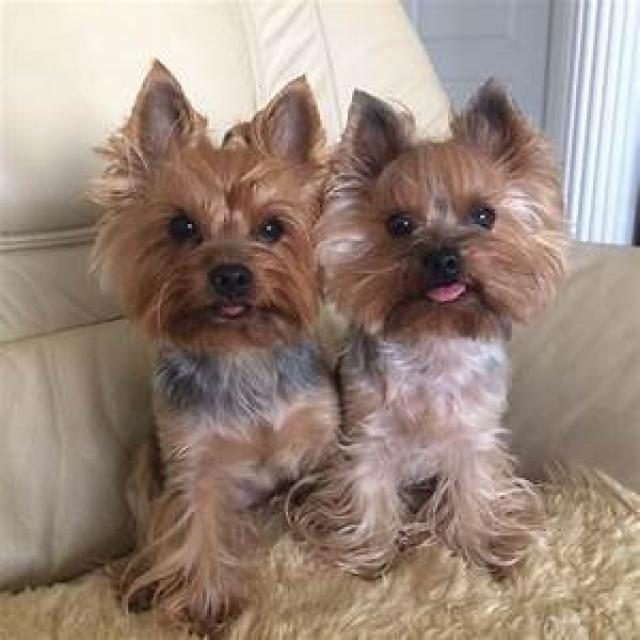dog: (96, 61, 338, 632), (289, 81, 562, 576)
